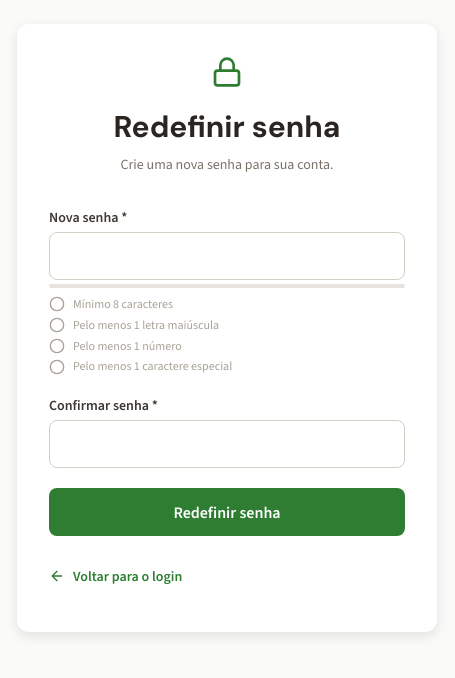
ResetPasswordPage › shows validation error when passwords do not match
Type "StrongPass1!" into the password field labelled "Nova senha *" at x=227, y=256, box [49,232,405,280]
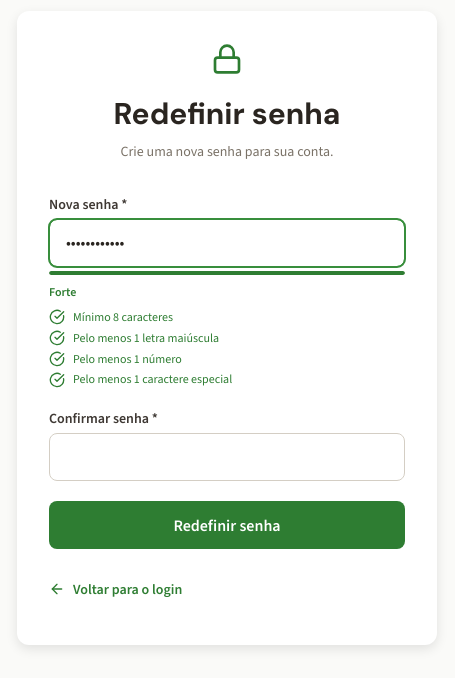
Type "Different1!" into the password field labelled "Confirmar senha *" at x=227, y=457, box [49,433,405,481]
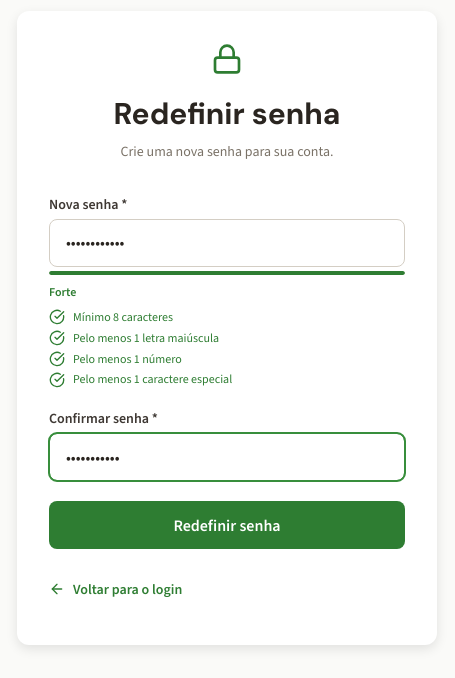
Press Tab
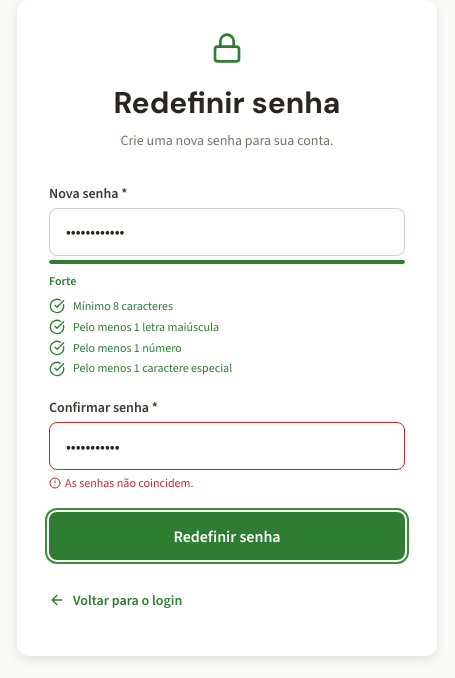
Check: the text "As senhas não coincidem." is shown, box [49,475,194,491]
